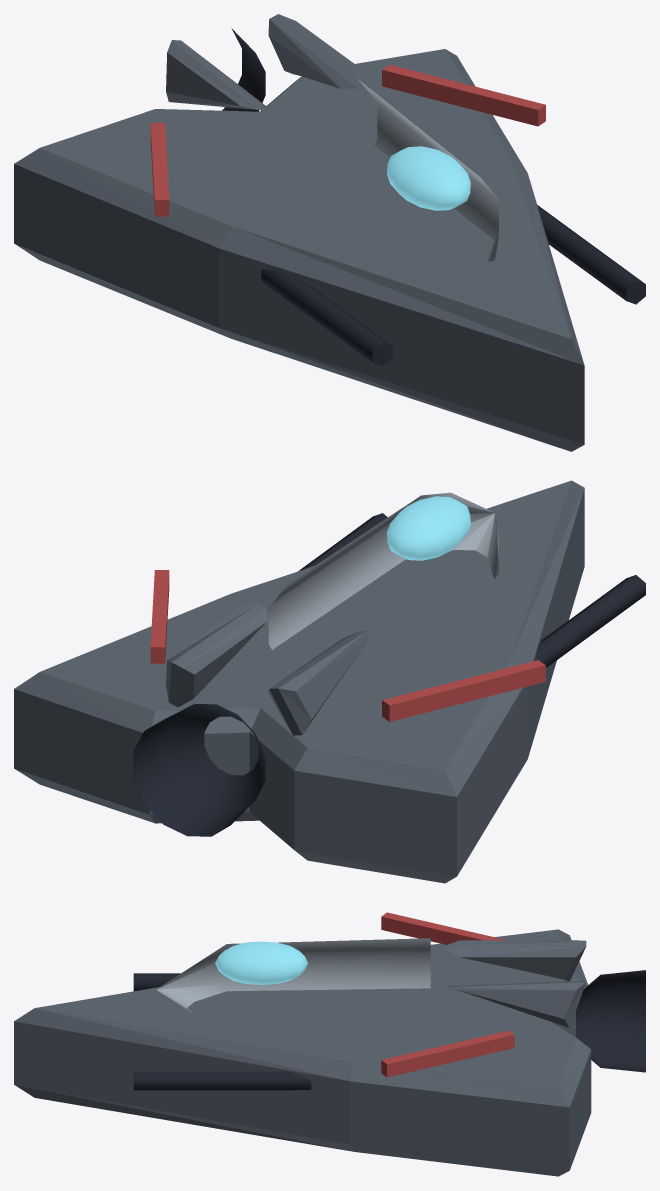
The model's file is escort.glb.
3 renders of one model, top to bottom at view 1: azimuth 30°, elevation 25°; view 2: azimuth 150°, elevation 25°; view 3: azimuth 270°, elevation 25°, orthographic. The views are drawn at different scales.
Visible parts, largest first — view 1: escort; view 2: escort; view 3: escort.
Boxes of the visible parts, left/top/right/bottom form: escort: left=14, top=14, right=645, bottom=451; escort: left=14, top=480, right=645, bottom=883; escort: left=14, top=912, right=645, bottom=1176.
Size of the model in its own units: 0.6995 by 0.295 by 1.09.
